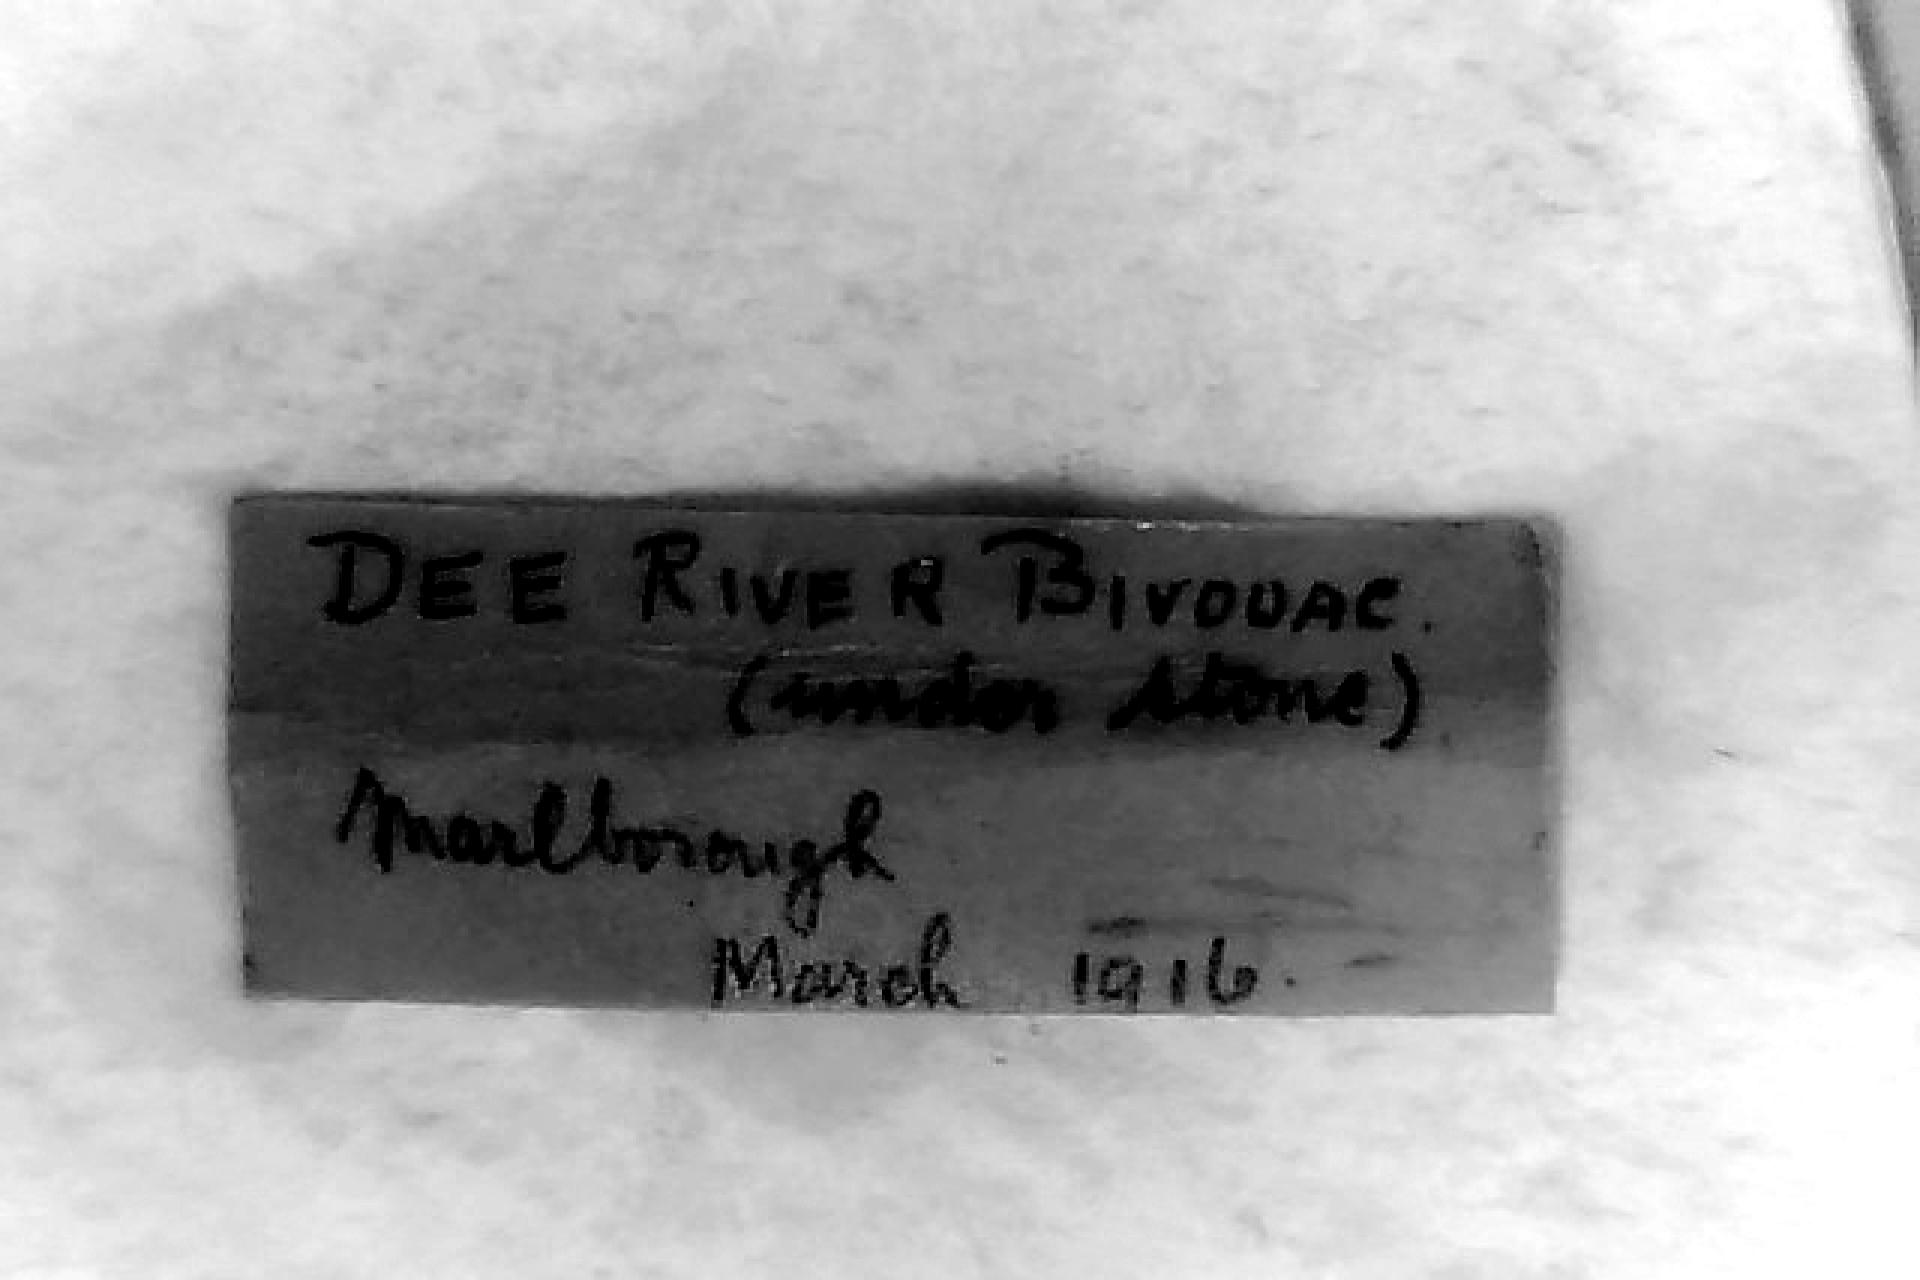hand_label: (229, 497, 1553, 1013)
